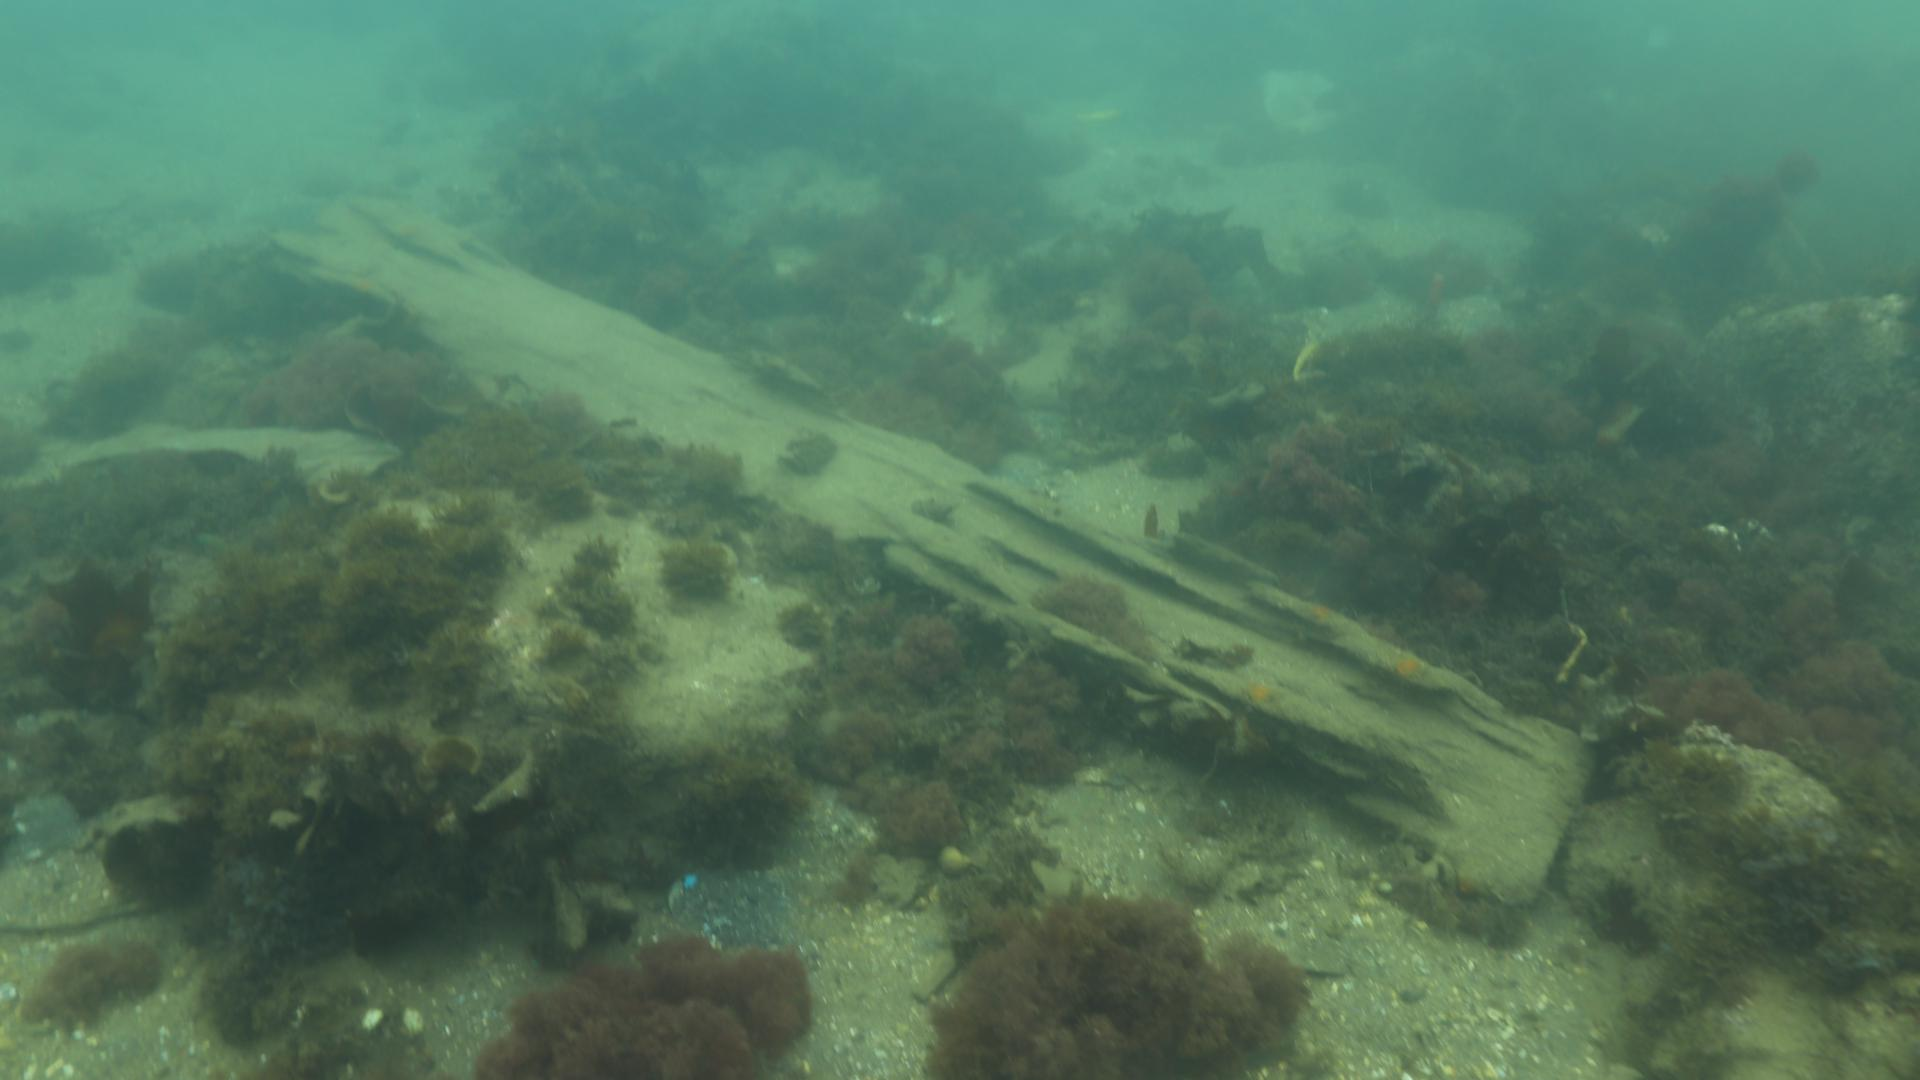wood: (269, 190, 1596, 906)
